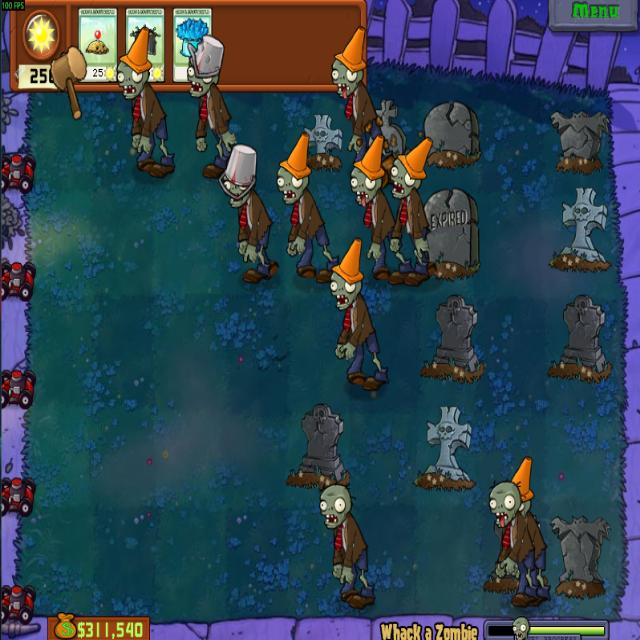buckethead: (218, 143, 258, 210)
conehead: (115, 27, 152, 102), (330, 25, 367, 100), (328, 237, 365, 311), (390, 136, 432, 201), (350, 133, 385, 207), (278, 132, 310, 207), (508, 457, 534, 522)
damaged_buckethead: (184, 34, 225, 100)
grave: (546, 292, 613, 382), (416, 186, 481, 278), (547, 184, 613, 274), (286, 403, 349, 492), (548, 504, 610, 594), (415, 403, 476, 494), (421, 295, 484, 380), (547, 105, 611, 175), (422, 99, 481, 166), (365, 96, 409, 167), (300, 111, 345, 169)
gravebuster: (125, 6, 166, 83)
zombie: (487, 480, 522, 531), (318, 484, 353, 530)
